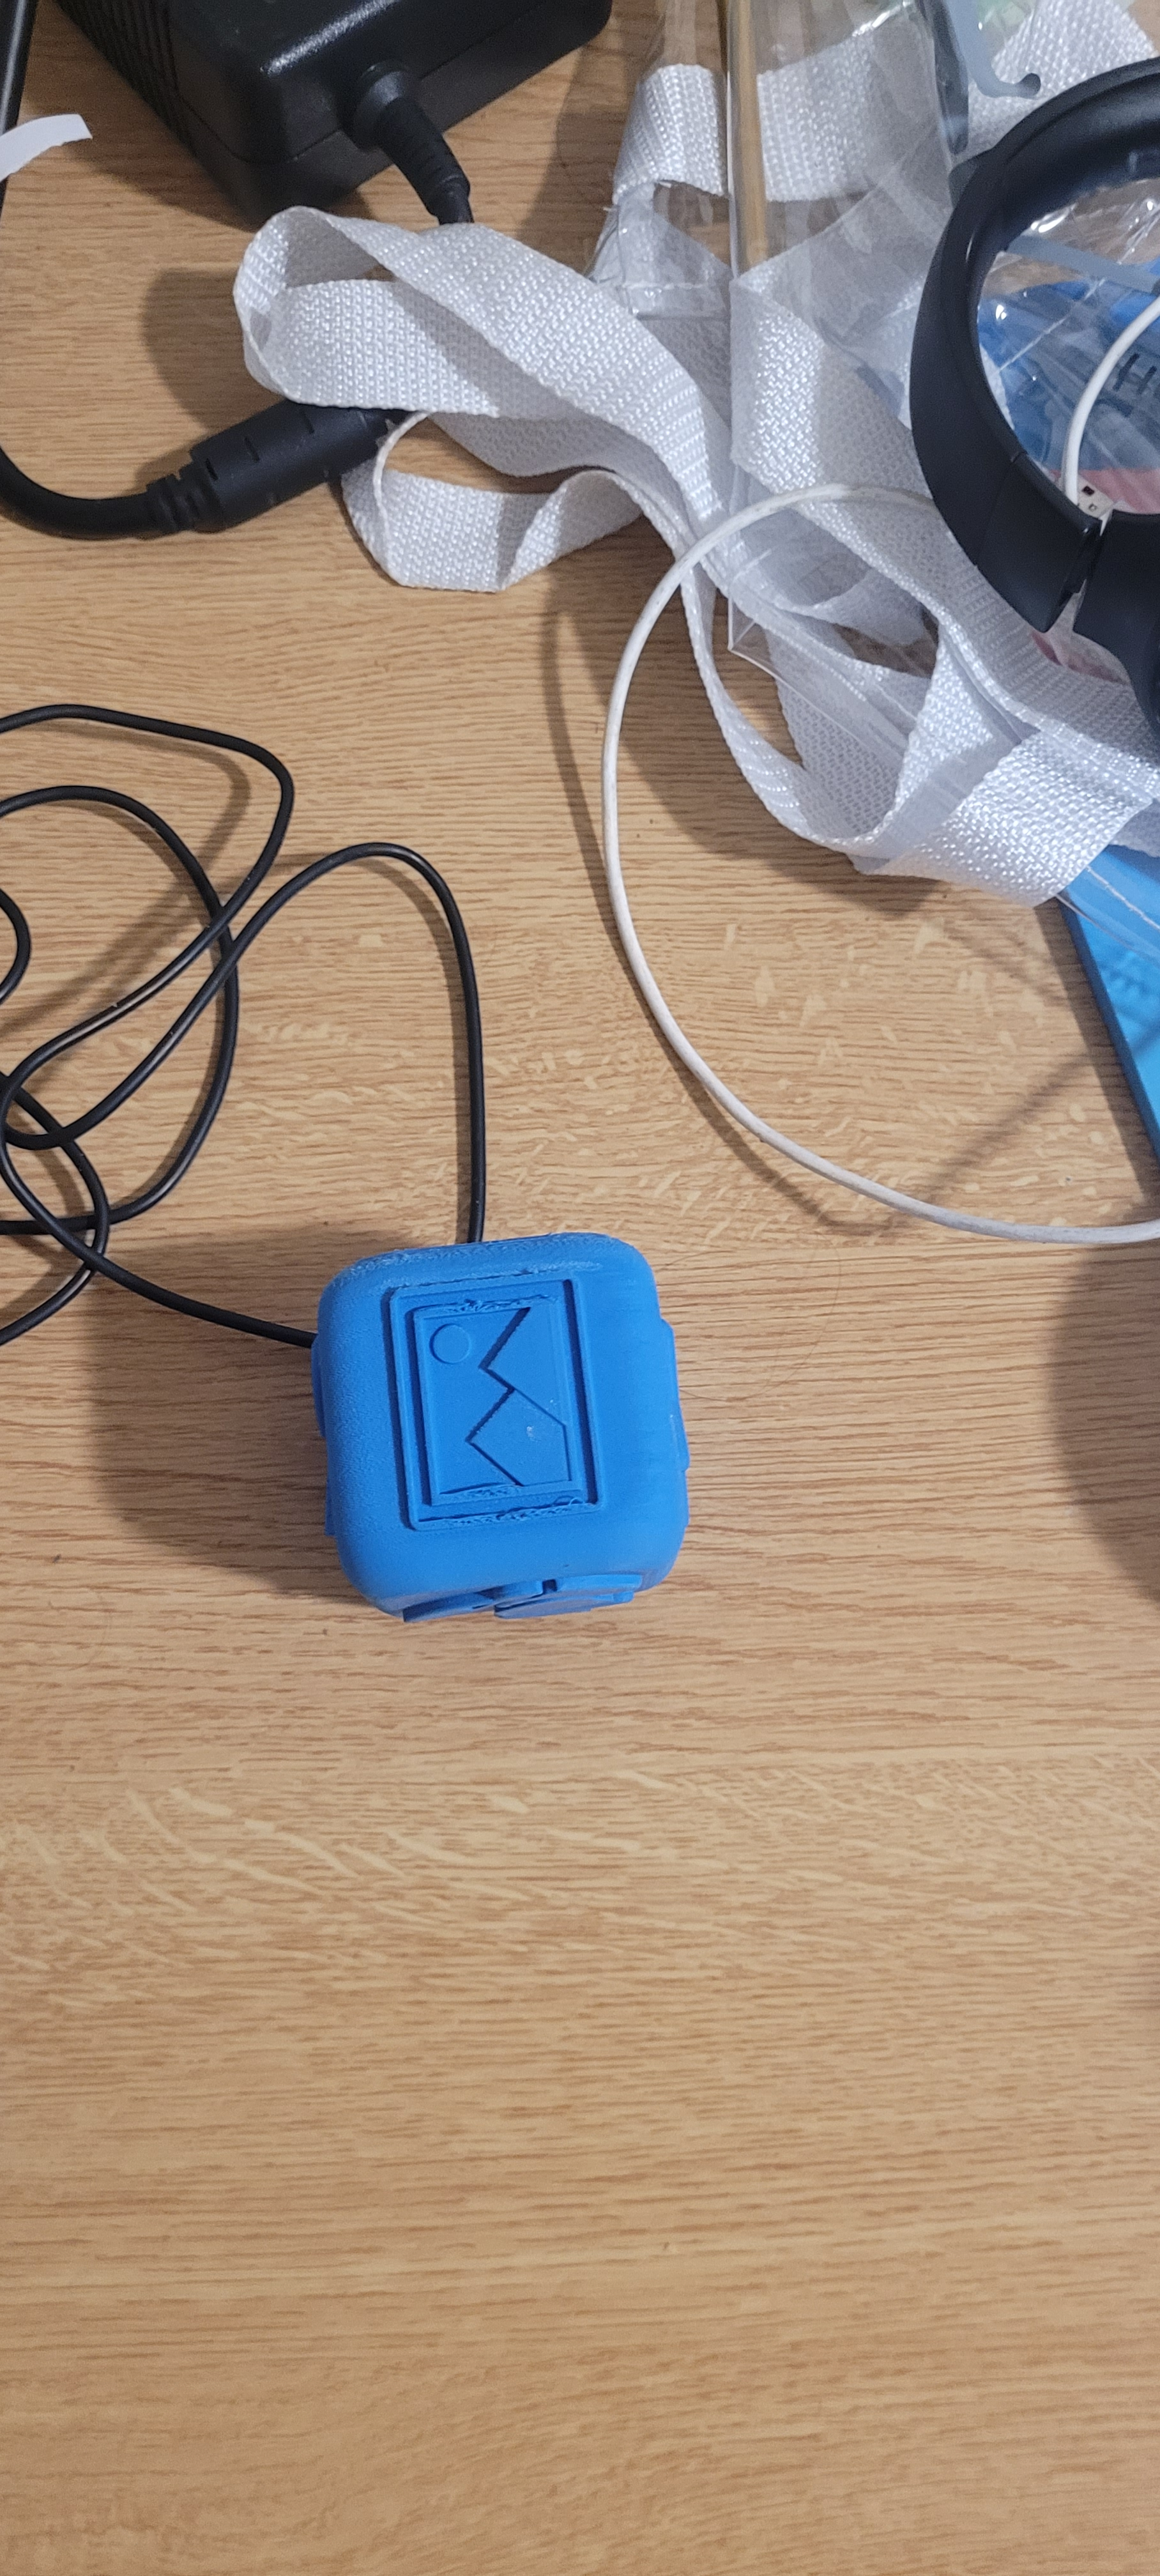Story: (373, 1268, 615, 1516)
